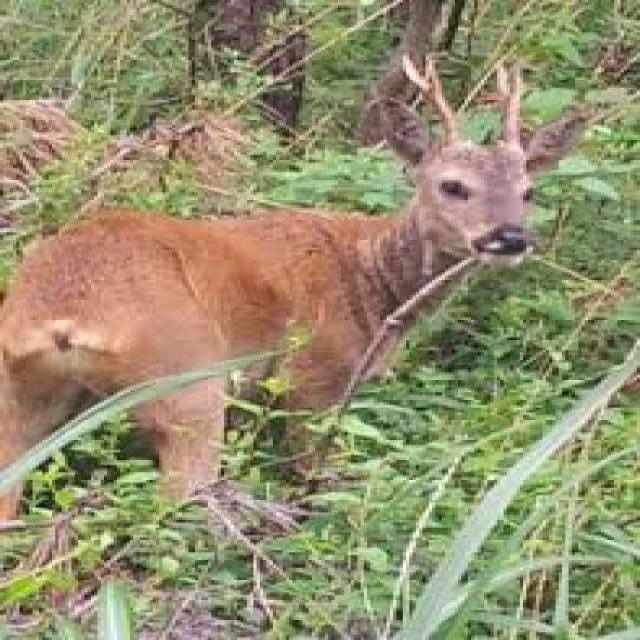deer: (0, 41, 603, 540)
